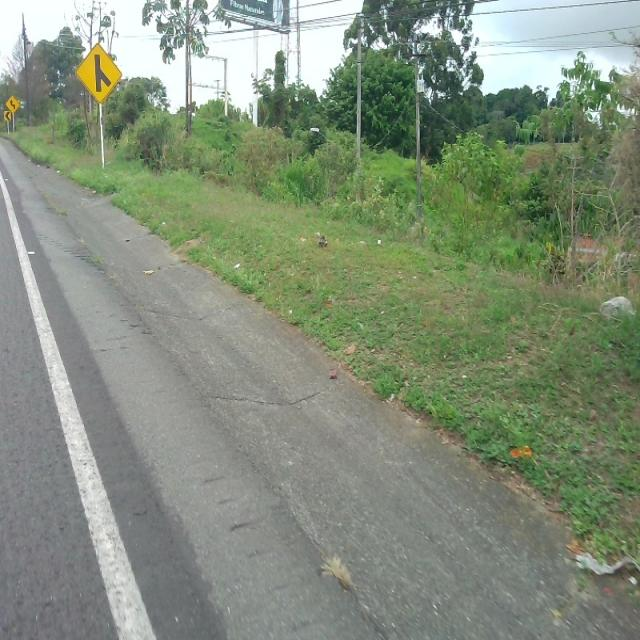DITCH: (5, 113, 638, 638), (1, 132, 638, 638)
